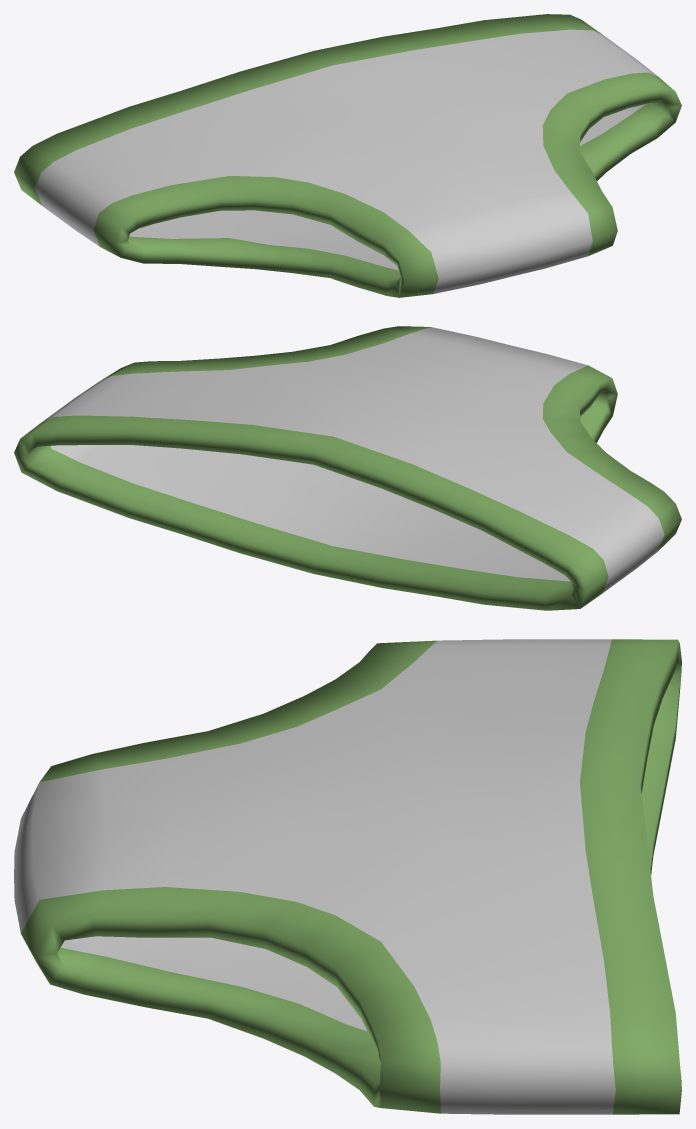
The model's file is Diaper_01.fbx.
3 views of the same model, one above another, from view 1: azimuth 30°, elevation 25°; view 2: azimuth 150°, elevation 25°; view 3: azimuth 270°, elevation 25° (orthographic). The views are drawn at different scales.
Parts seen in each view (by area): view 1: Diaper_01; view 2: Diaper_01; view 3: Diaper_01.
Boxes of the visible parts, x1,y1,x2,y2 form: Diaper_01: (14, 14, 681, 297); Diaper_01: (14, 326, 681, 610); Diaper_01: (14, 639, 681, 1114).
Size of the model in its own units: 0.1796 by 0.0368 by 0.1182.
